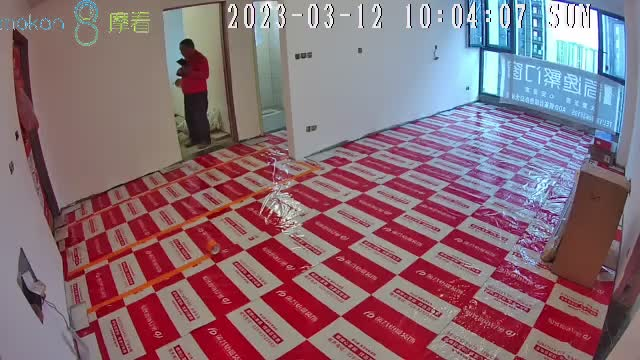people: (177, 38, 212, 149)
window: (477, 1, 625, 138)
